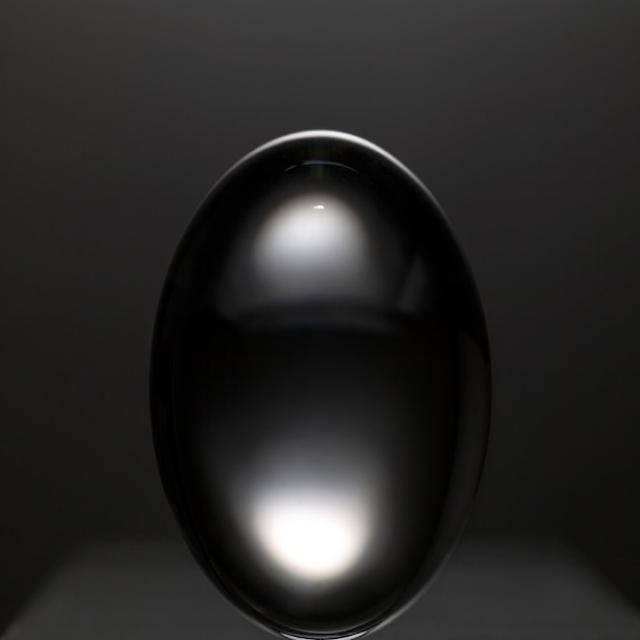hidden camera: (124, 90, 527, 640)
